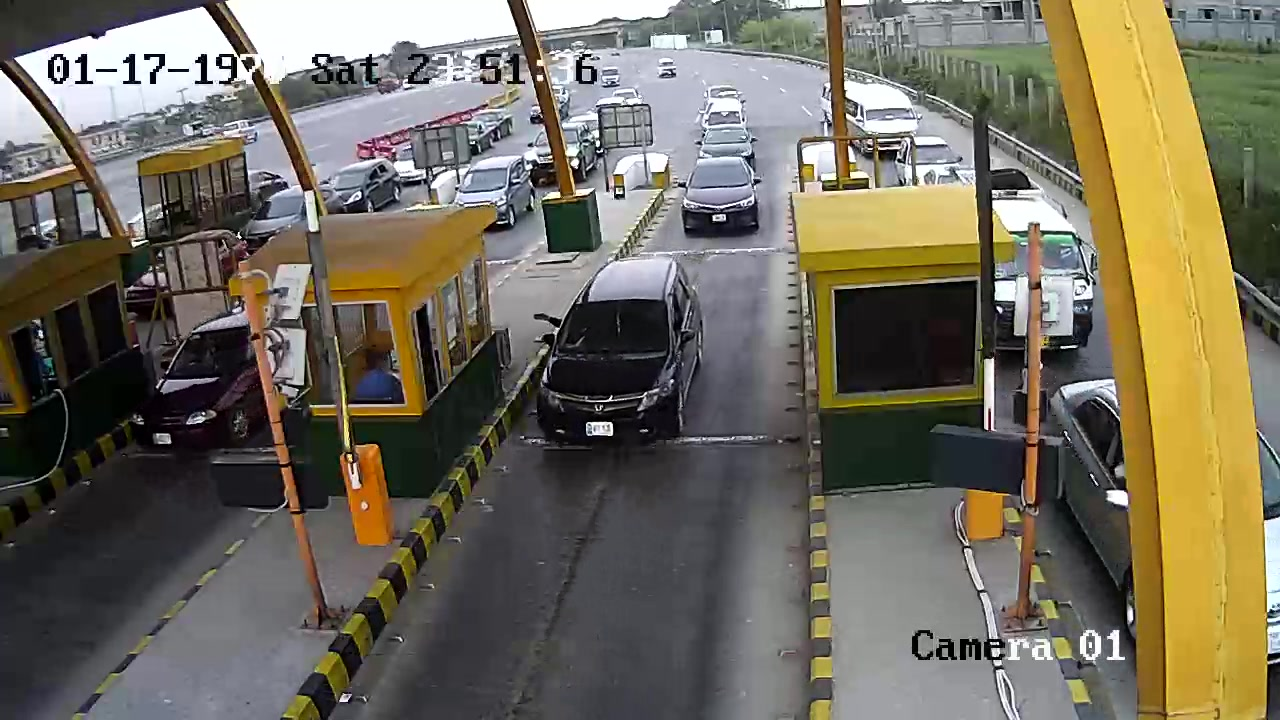F1: (527, 253, 731, 457)
